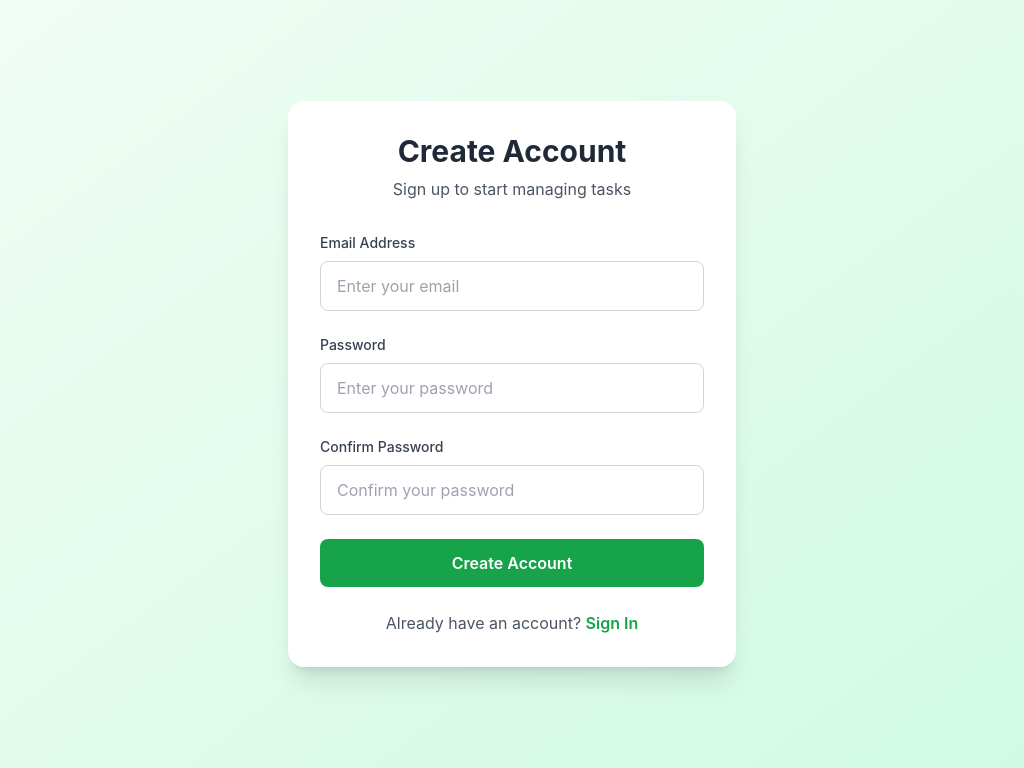
Register Component › displays error when fields are empty
Click the button with test id "register-button" at point(512, 563), box [320,539,704,587]
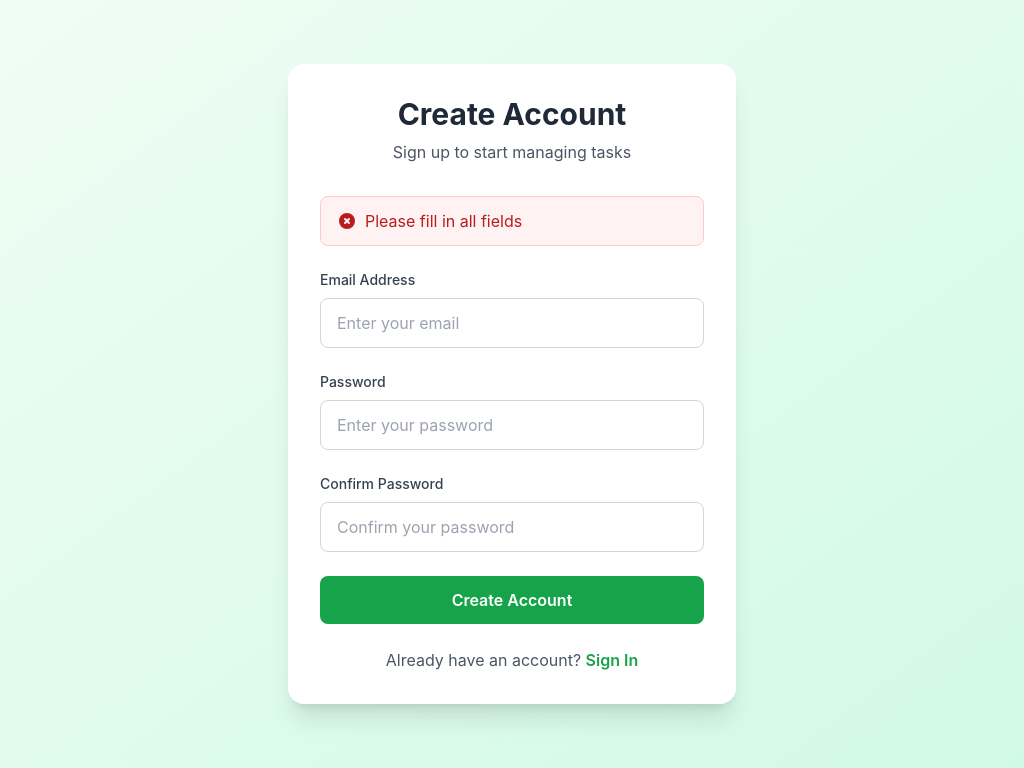
Check: the text "Please fill in all fields" is shown, box [365,209,522,233]
